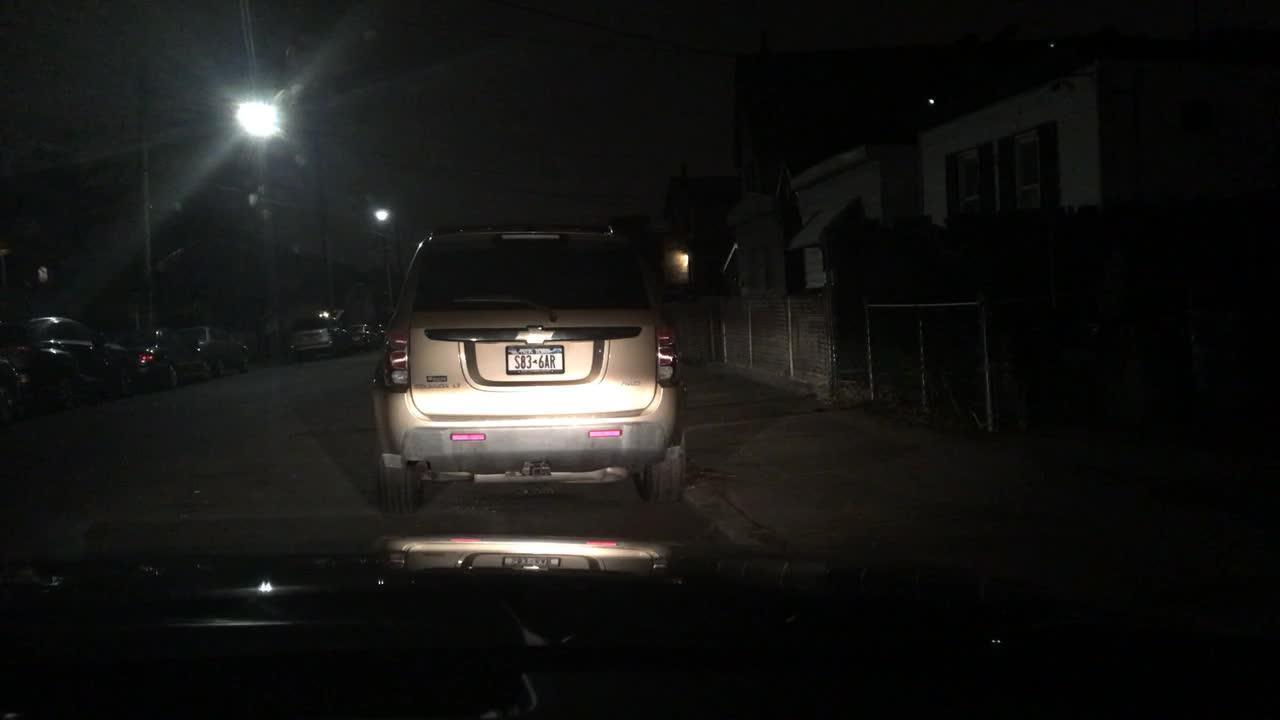chevrolet: (512, 322, 556, 352)
